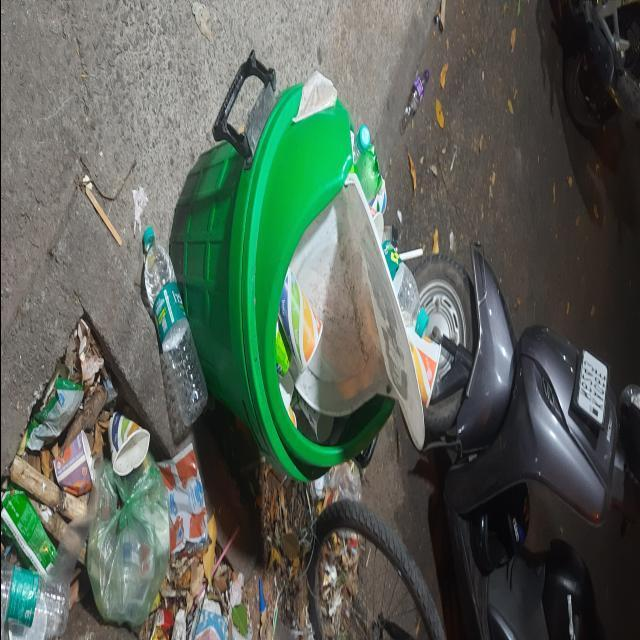Garbage: (0, 84, 441, 640)
Plastic: (355, 126, 369, 153)
Plastic_Bag: (85, 453, 169, 626), (156, 442, 210, 553), (46, 486, 98, 589), (309, 461, 360, 513), (190, 597, 228, 640)
Plastic_Straw: (210, 526, 239, 575)
Plastic_bottle: (142, 226, 206, 426), (0, 560, 68, 637), (381, 234, 428, 337), (354, 145, 381, 202)
Plastic_wraper: (0, 488, 55, 575), (25, 378, 82, 451)
